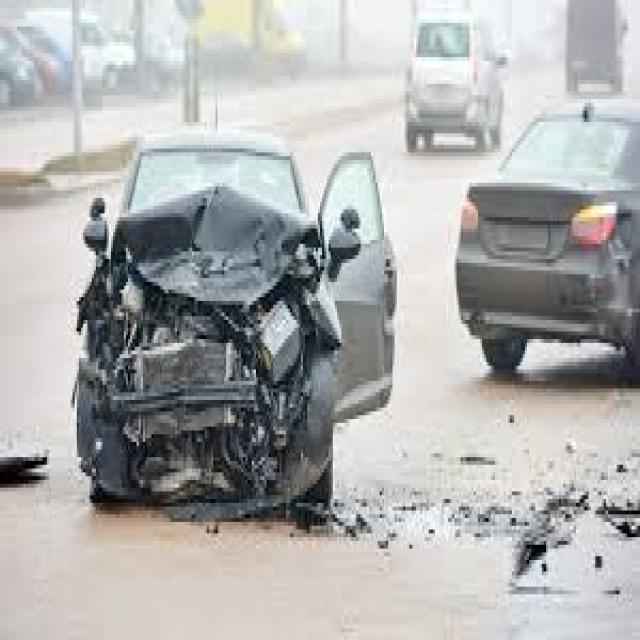accident: (66, 99, 385, 522)
